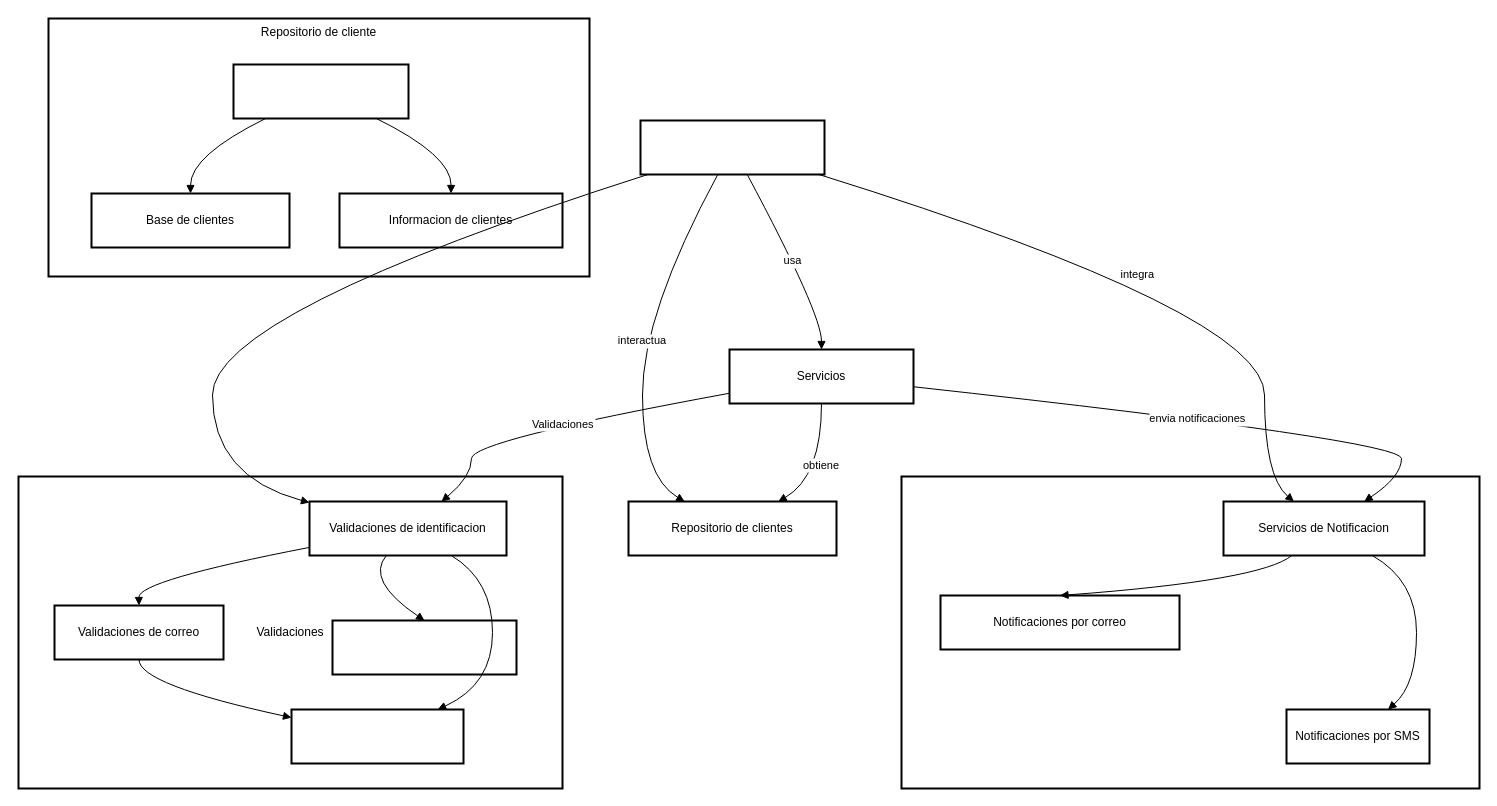
This 1497x806 diagram has some shape labels left out. Each missing label, with the box of its shape:
Entidad de clientes: (232, 63, 409, 119)
Módulo de Cliente: (639, 119, 825, 175)
Servicio de Notificaciones: (900, 475, 1480, 789)
Validaciones de direccion: (331, 619, 517, 675)
Validaciones de telefono: (290, 708, 464, 764)
